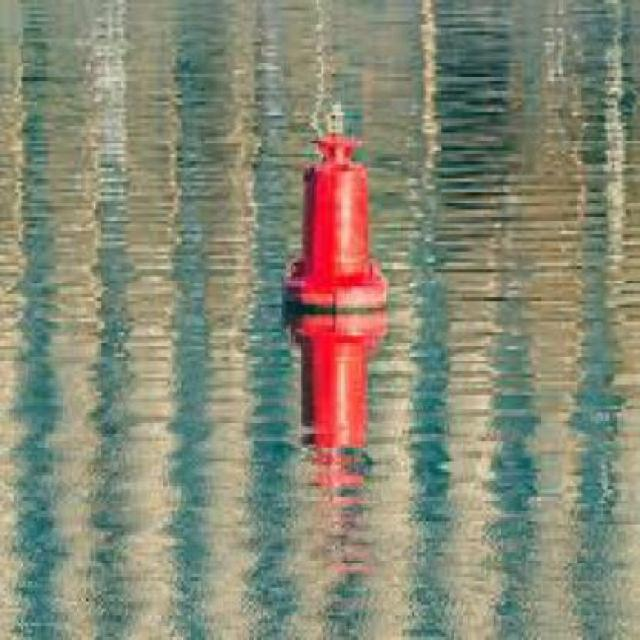buoy: (278, 81, 396, 333)
